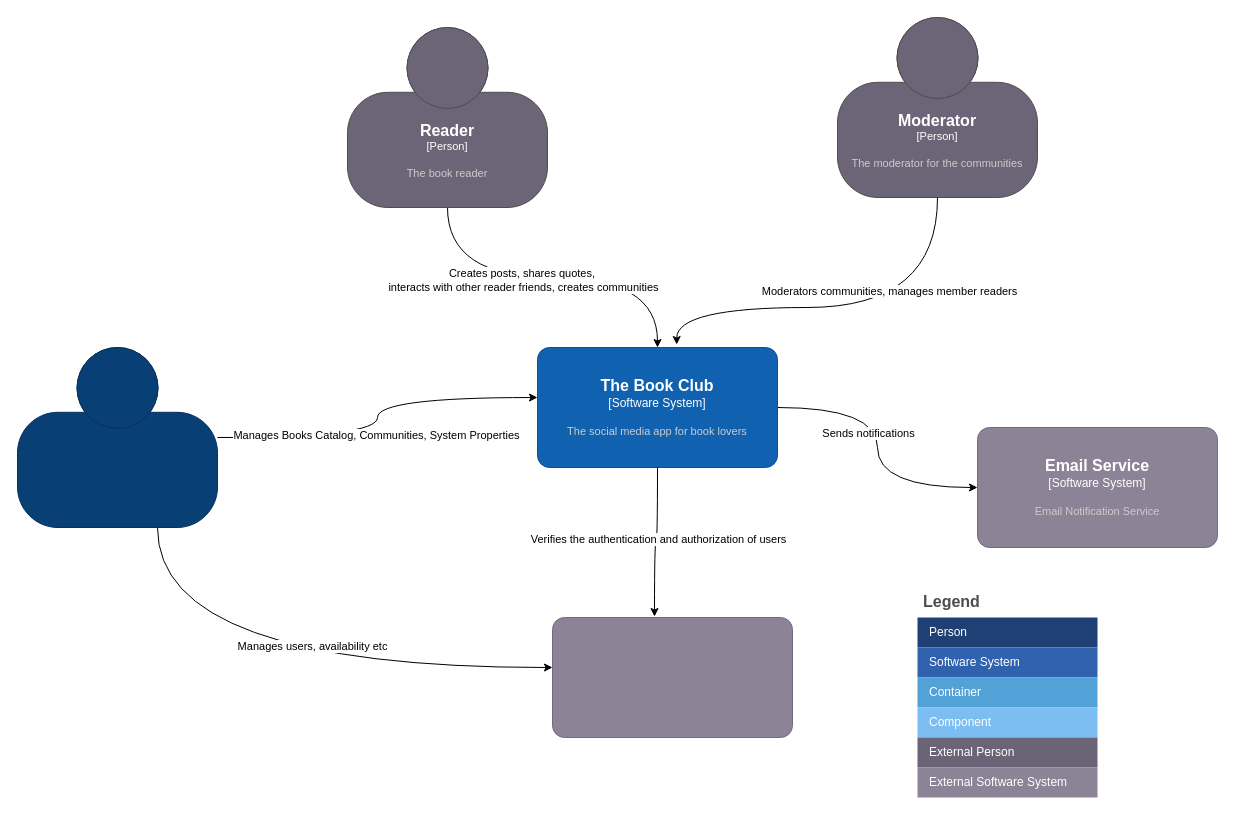
This 1235x815 diagram has some shape labels left out. The centre of each missing label's shape, as x and y in pixels:
Admin [Person] System Administrator: point (117, 437)
Identity Server [Software System] Keycloak Identity Platform: point (672, 677)
